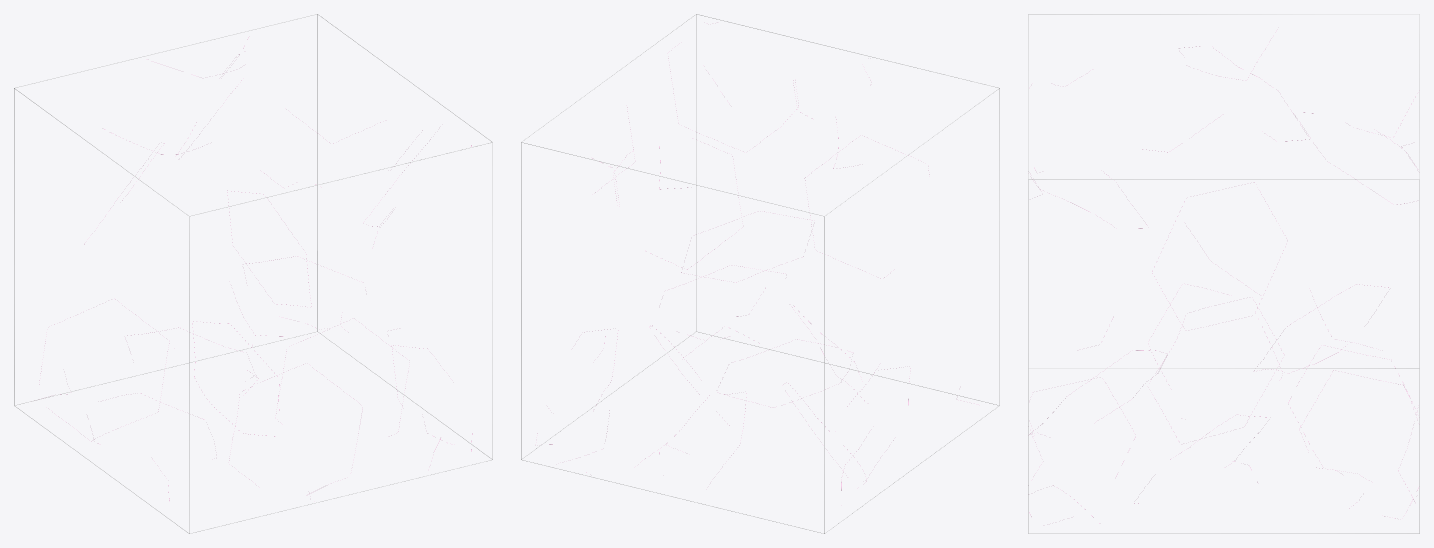
File: config_0100.glb
The picture shows the model from 3 angles, left to right: view 1: azimuth 30°, elevation 25°; view 2: azimuth 150°, elevation 25°; view 3: azimuth 270°, elevation 25°; orthographic projection. The views are drawn at different scales.
Visible parts, largest first — view 1: Shape_IndexedLineSet; view 2: Shape_IndexedLineSet; view 3: Shape_IndexedLineSet.
Boxes of the visible parts, x1,y1,x2,y2 form: Shape_IndexedLineSet: (14, 14, 492, 533); Shape_IndexedLineSet: (521, 14, 999, 533); Shape_IndexedLineSet: (1028, 14, 1419, 533).
Bounding box in the file's own units: 10.01 × 10.01 × 10.01.
